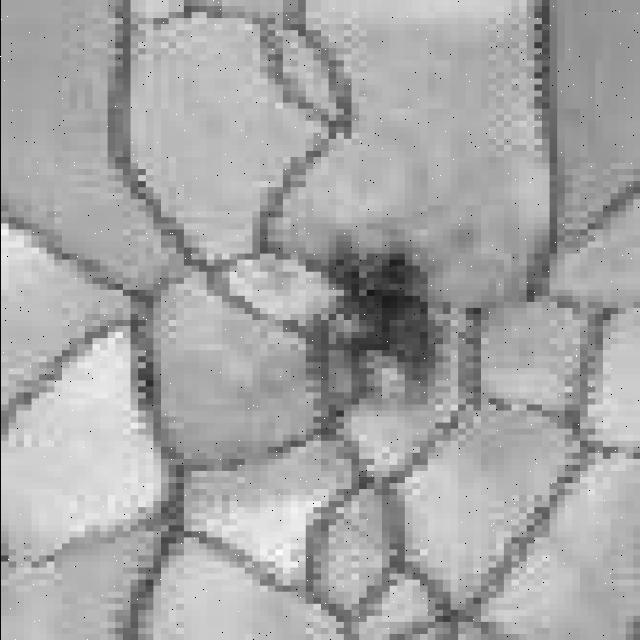good_void: (297, 247, 443, 402)
